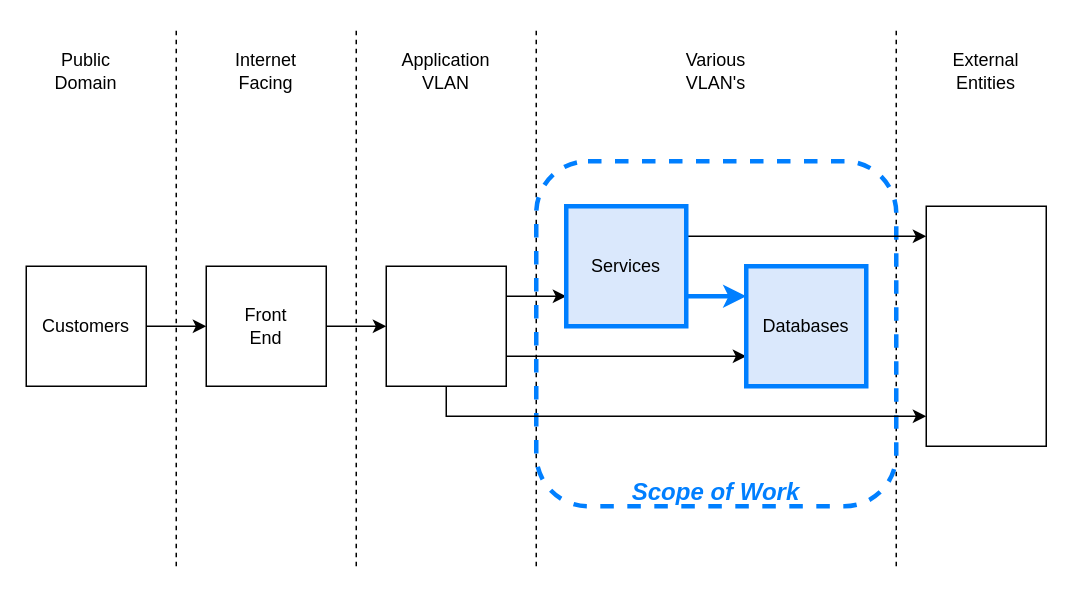
The diagram is 1073 pixels wide and 594 high, and some of its shapes have lost their labels. The shapes that lost their labels are listed below. From the top down, each one's box as (x1, y1, x2, y2) in pixels, then its label:
(385, 265, 506, 386): Application Server
(925, 205, 1046, 446): 3rd Party System
